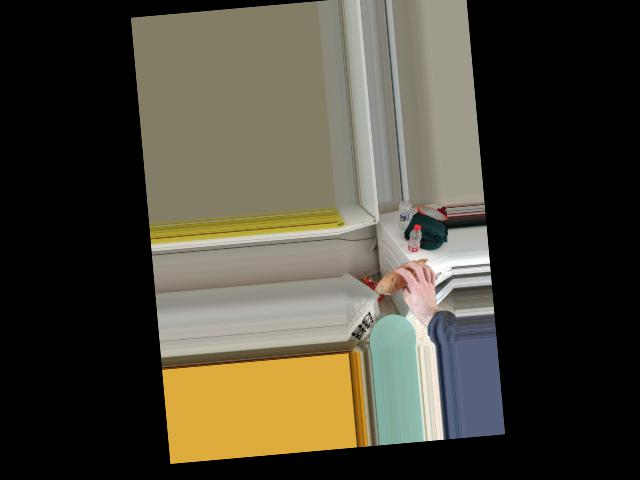sweet_potato: (375, 257, 433, 295)
